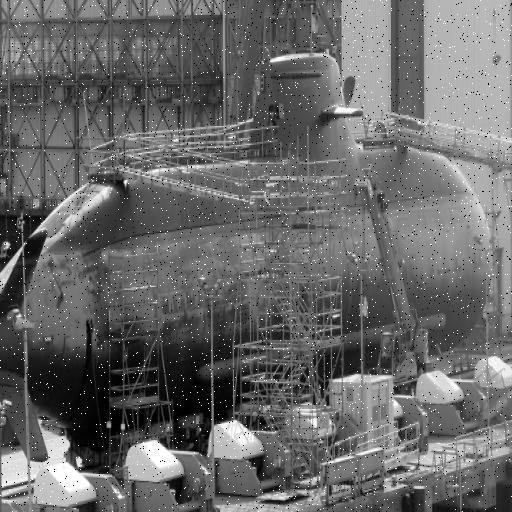submarine: (1, 20, 512, 449)
